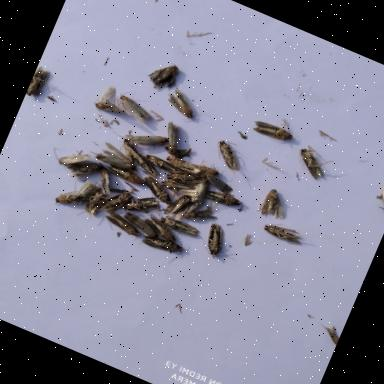pbw: (189, 214, 245, 268), (246, 107, 305, 152), (201, 132, 254, 182), (132, 223, 188, 270), (288, 143, 342, 187), (108, 84, 162, 128), (158, 84, 208, 128), (116, 184, 166, 226), (152, 206, 207, 244), (148, 164, 202, 202), (91, 137, 143, 176), (91, 182, 138, 225), (60, 149, 108, 190), (252, 181, 295, 225), (258, 216, 310, 252), (97, 208, 146, 246), (163, 158, 212, 196), (45, 138, 92, 176), (100, 154, 152, 188), (140, 54, 182, 96), (196, 160, 242, 198), (134, 170, 180, 208), (118, 208, 166, 244), (24, 64, 63, 108), (104, 128, 151, 164), (73, 180, 110, 225), (137, 211, 183, 246), (124, 146, 168, 180), (128, 122, 171, 156), (68, 173, 106, 211), (90, 88, 132, 122), (140, 152, 186, 182), (200, 184, 246, 214), (185, 153, 227, 185), (162, 186, 196, 224), (155, 119, 189, 157), (52, 182, 88, 215), (162, 150, 204, 177), (90, 163, 122, 197), (159, 136, 195, 163), (184, 174, 213, 207), (314, 320, 342, 347), (366, 176, 384, 218), (160, 73, 180, 93), (44, 92, 60, 104), (53, 126, 64, 138)
